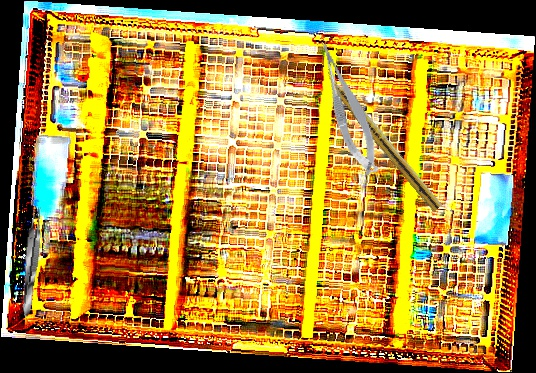Handpiece: (319, 66, 446, 213)
Micro Scissor: (314, 35, 384, 180)
Tissue Forceps: (18, 205, 45, 318)
